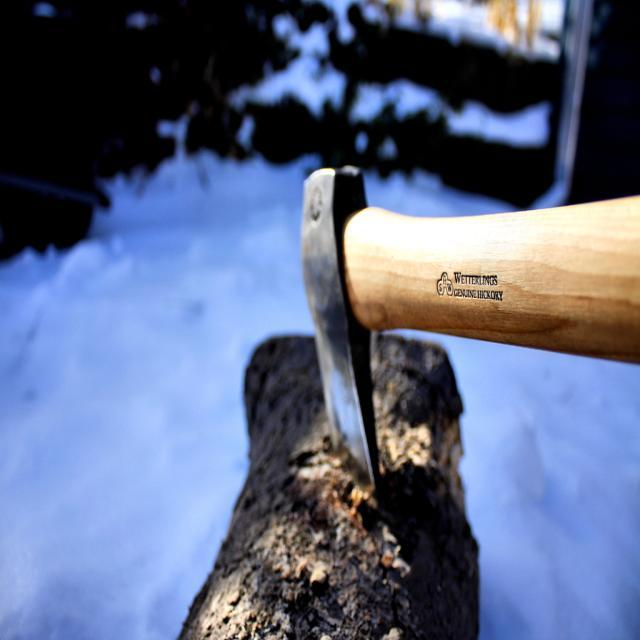Axe: (301, 166, 640, 493)
